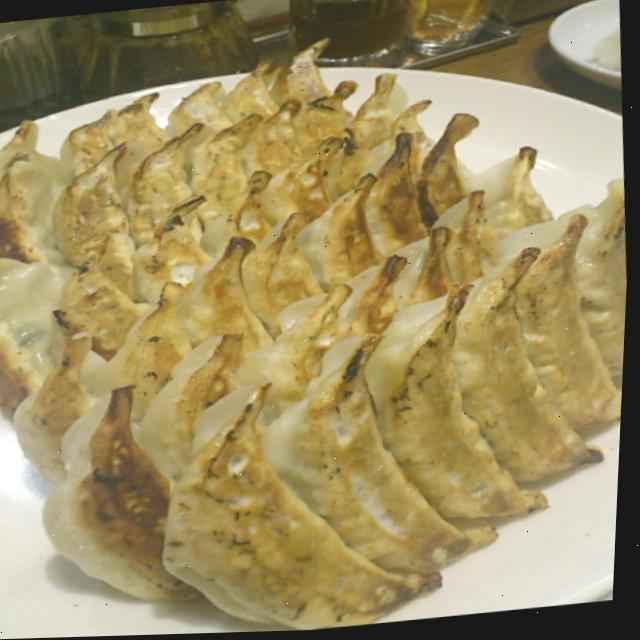带馅早点: (0, 37, 638, 640)
